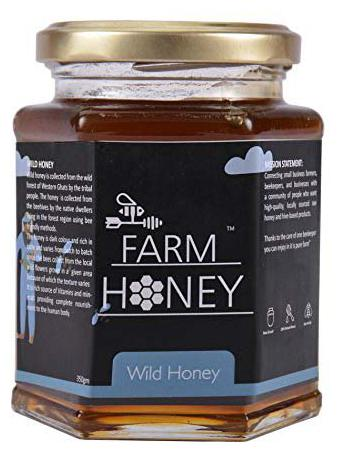JAR: (7, 15, 328, 447)
